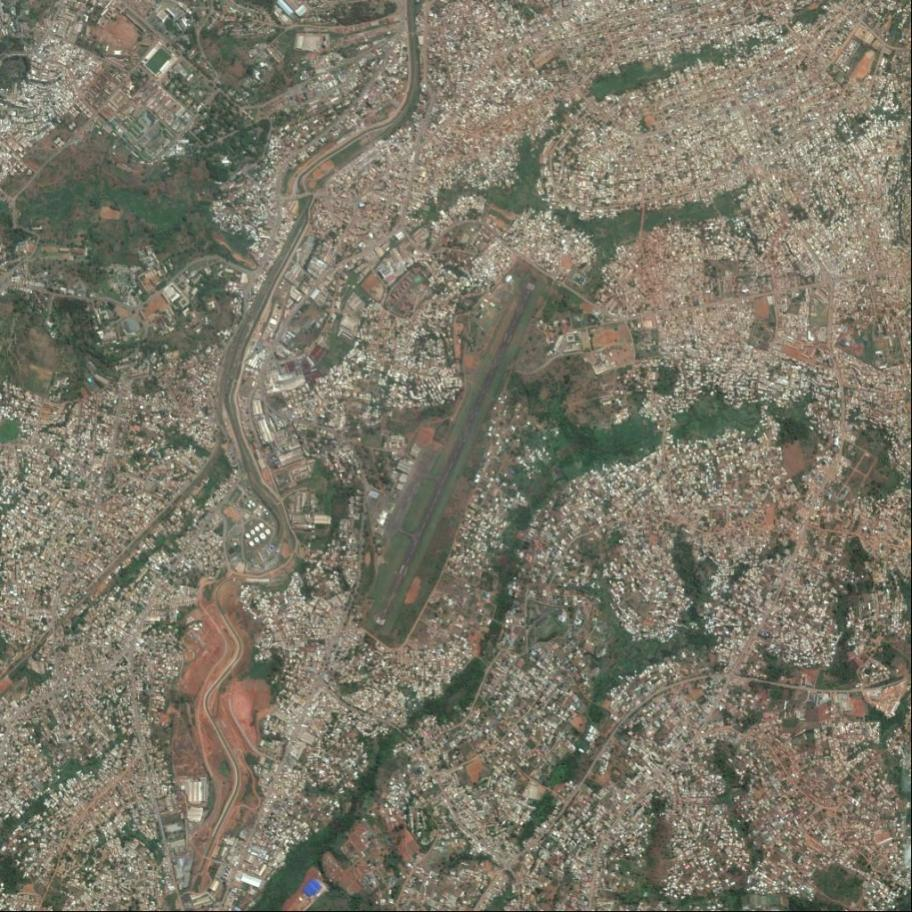storage-tank: (260, 533, 266, 540), (249, 541, 255, 547), (259, 524, 265, 529), (266, 530, 272, 535), (254, 538, 259, 543), (249, 531, 255, 535), (246, 534, 250, 539), (256, 528, 260, 533)
